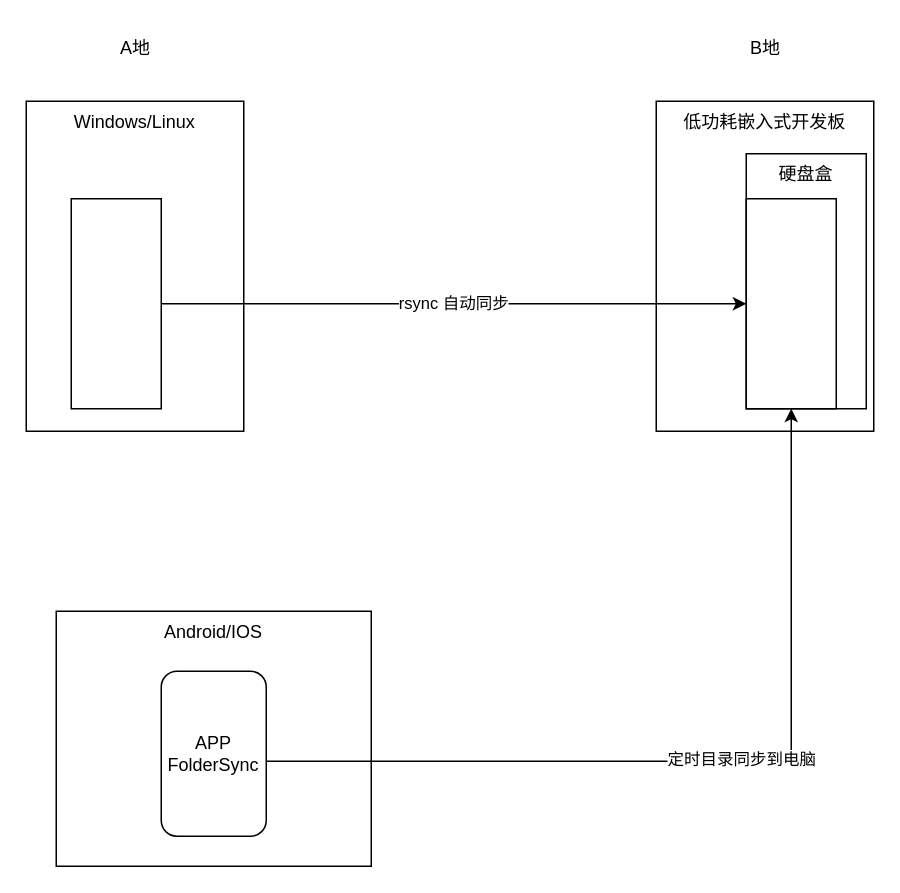
This 900x893 diagram has some shape labels left out. Each missing label, with the centre of its shape:
"硬盘1" goes at pixel 115 303.
"硬盘2" goes at pixel 790 303.
